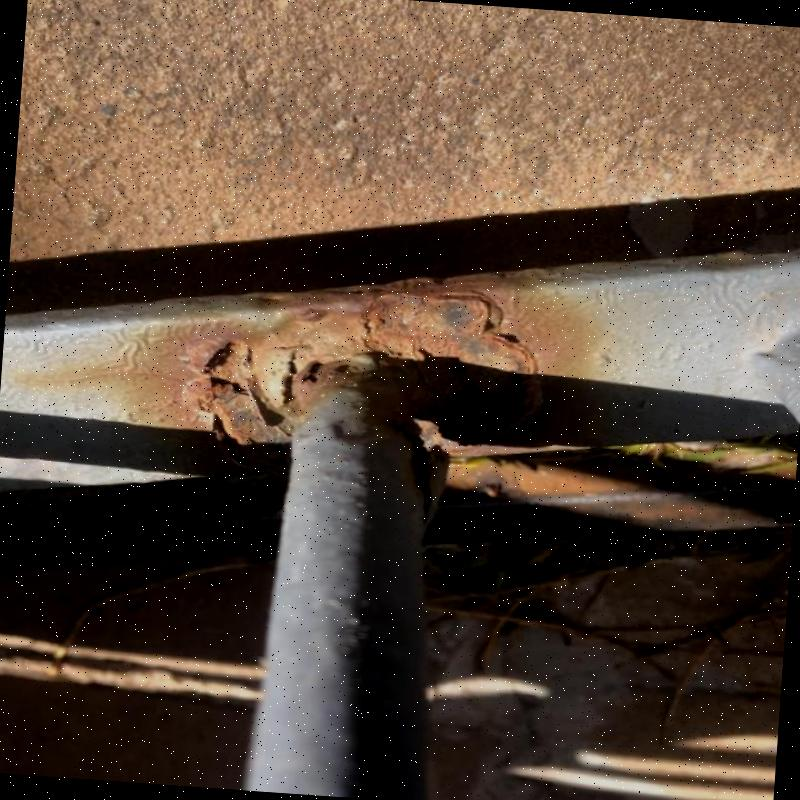corrosion: (235, 294, 556, 487)
